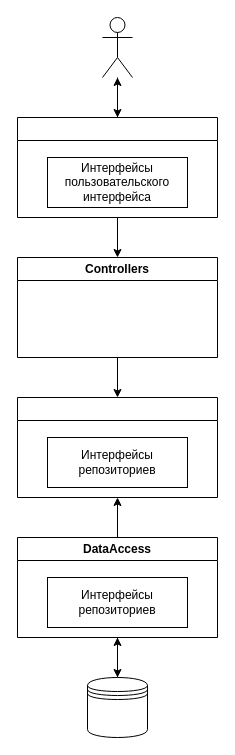
Some shapes in this 235 by 755 pixel diagram are drawn without their labels. Here are the shapes that lost their labels. From the top down, the box of each, then its label:
(16, 116, 218, 218): View
(16, 396, 218, 498): Business logic
(86, 676, 148, 738): DataBase
